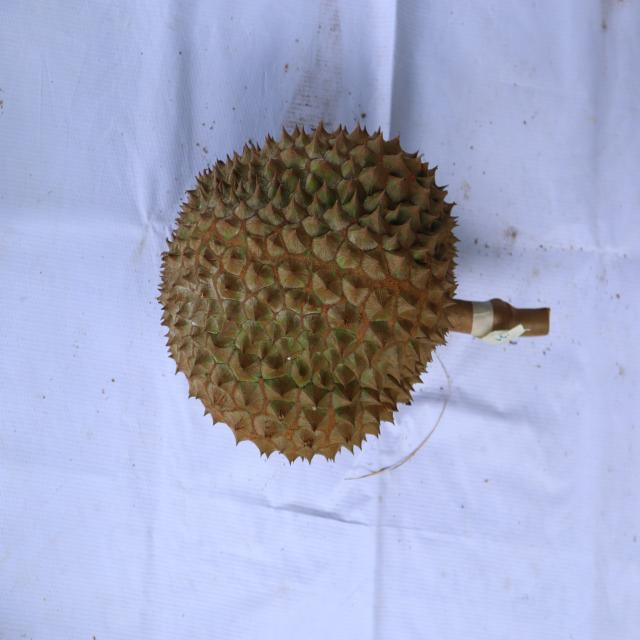mature: (155, 119, 458, 467)
